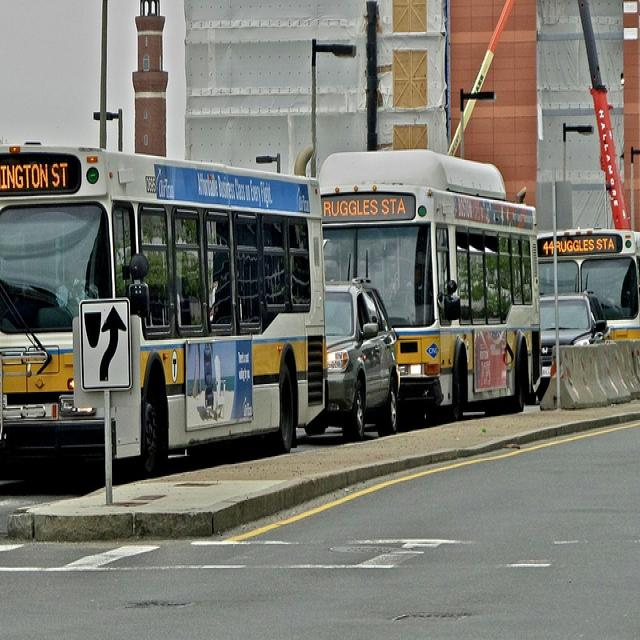Vehicle: (0, 146, 325, 460), (319, 151, 550, 419), (308, 283, 402, 442), (536, 226, 640, 343), (538, 290, 606, 403)
